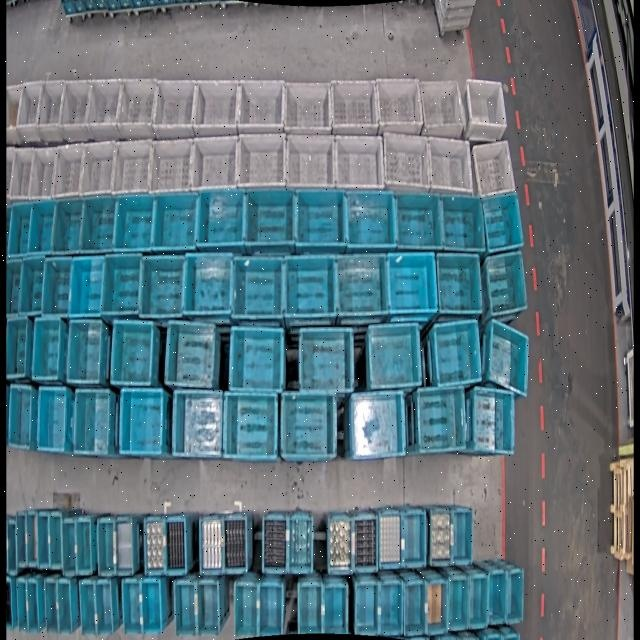Box: (366, 322, 424, 391), (223, 391, 278, 460), (282, 393, 338, 459), (351, 392, 407, 458), (166, 320, 218, 391), (229, 324, 284, 391), (415, 382, 466, 453), (300, 327, 354, 394), (486, 318, 530, 400), (431, 320, 483, 388), (335, 253, 389, 318), (436, 249, 485, 319), (469, 386, 517, 456), (230, 257, 285, 318), (283, 257, 338, 318), (386, 252, 439, 315), (245, 186, 295, 251), (173, 391, 222, 457), (295, 187, 347, 248), (438, 194, 488, 256), (184, 252, 231, 317), (426, 138, 475, 200), (345, 189, 395, 249), (111, 320, 156, 386), (484, 251, 528, 318), (141, 254, 187, 318), (384, 132, 430, 196), (197, 190, 246, 250), (393, 192, 442, 252), (120, 388, 163, 456), (375, 77, 424, 135), (334, 136, 384, 192), (481, 192, 525, 255), (420, 77, 466, 137), (152, 190, 197, 250), (101, 254, 143, 318), (237, 132, 285, 188), (332, 77, 378, 135), (287, 132, 334, 188), (472, 141, 517, 199), (195, 77, 239, 135), (285, 78, 332, 132), (192, 137, 236, 193), (75, 391, 112, 456), (154, 79, 196, 136), (238, 77, 284, 129), (466, 80, 505, 141), (118, 77, 156, 139), (150, 137, 192, 193), (68, 319, 104, 383), (113, 142, 153, 195), (69, 257, 103, 319), (33, 317, 64, 382), (79, 142, 117, 195), (116, 195, 153, 249), (81, 196, 117, 251), (38, 388, 68, 452), (88, 79, 119, 139), (61, 81, 91, 142), (52, 144, 84, 198), (8, 385, 34, 451), (52, 197, 82, 253), (42, 258, 71, 314), (402, 507, 427, 571), (36, 80, 62, 141), (27, 197, 55, 253), (263, 512, 288, 574), (328, 512, 353, 574), (428, 502, 452, 566), (222, 513, 248, 571), (289, 513, 314, 573), (17, 82, 42, 142), (199, 517, 224, 575), (378, 509, 402, 569), (10, 147, 36, 201), (164, 514, 187, 575), (355, 581, 380, 637), (29, 147, 57, 197), (355, 514, 379, 572), (450, 508, 473, 568), (19, 259, 44, 314), (380, 581, 404, 638), (234, 584, 258, 640), (195, 581, 220, 634), (7, 315, 28, 378), (143, 515, 165, 575), (259, 581, 283, 635), (298, 582, 323, 633), (8, 203, 31, 257), (98, 517, 118, 578), (404, 582, 426, 637), (426, 580, 448, 635), (324, 584, 348, 634), (139, 580, 161, 634), (174, 582, 196, 636), (116, 516, 136, 575), (121, 580, 142, 634), (448, 576, 468, 630), (62, 516, 79, 578), (80, 581, 98, 637), (508, 569, 526, 625), (95, 580, 113, 635), (488, 570, 506, 624), (470, 575, 488, 628), (44, 579, 60, 637), (49, 510, 64, 570), (7, 85, 22, 145), (56, 578, 72, 634), (6, 260, 22, 316), (78, 518, 93, 576), (6, 515, 19, 575), (26, 580, 40, 635), (28, 510, 40, 570), (17, 578, 29, 633), (39, 510, 50, 570), (17, 512, 29, 564), (6, 576, 14, 630)
